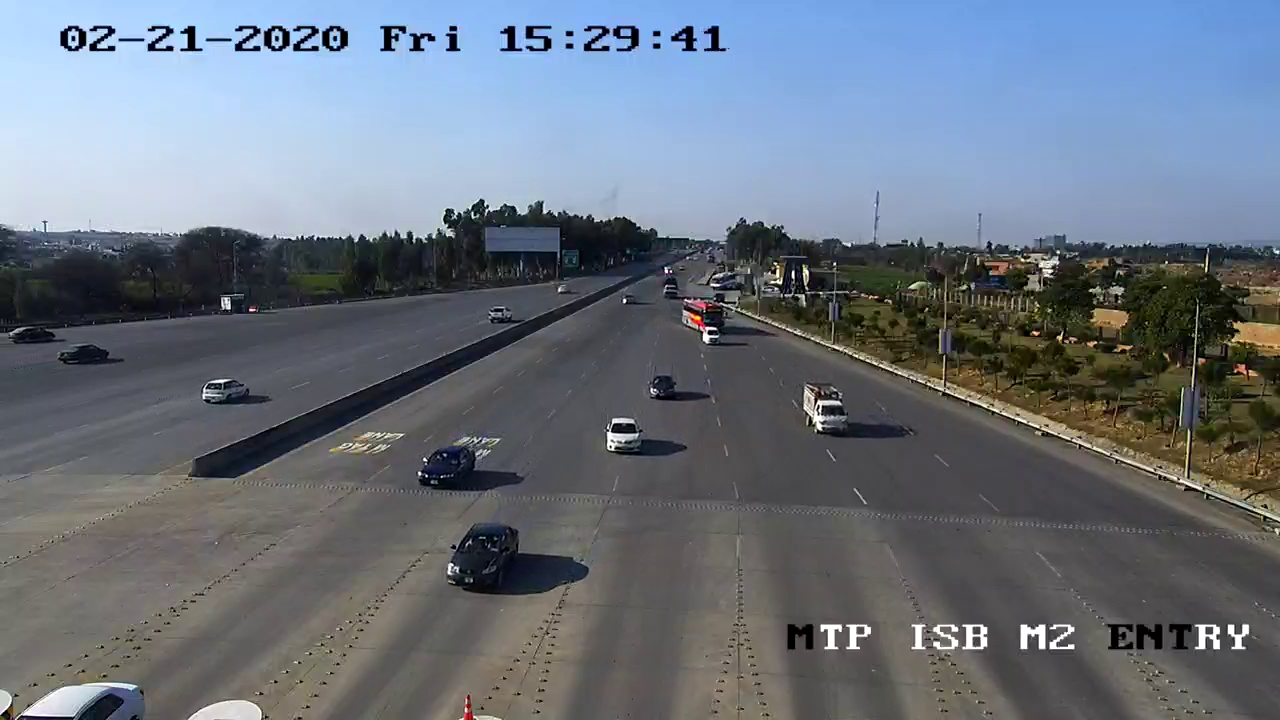f1: (434, 517, 532, 597), (411, 439, 481, 495), (591, 406, 651, 463), (637, 363, 686, 411)
